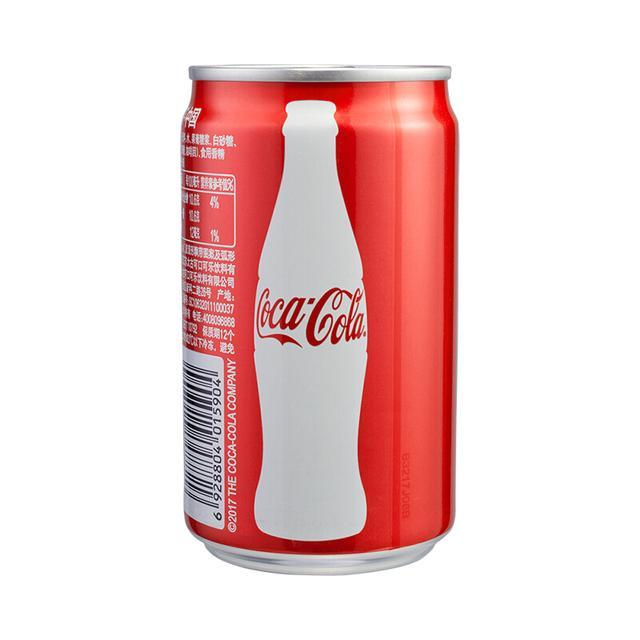coca-cola: (176, 58, 464, 578)
